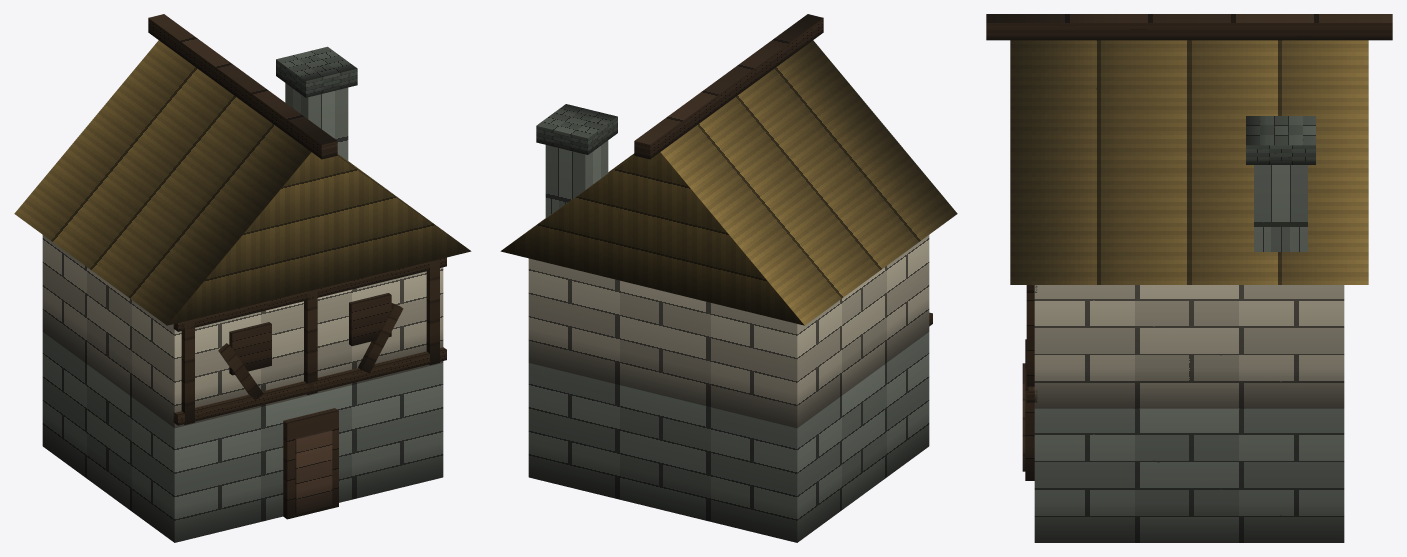
Rendered from house_small.gltf.
3 renders of one model, left to right at view 1: azimuth 30°, elevation 25°; view 2: azimuth 150°, elevation 25°; view 3: azimuth 270°, elevation 25°, orthographic. The views are drawn at different scales.
Visible parts, largest first — view 1: house_small; view 2: house_small; view 3: house_small.
Part boxes in pixels (bbox=[...]): house_small: bbox=[14, 14, 471, 542]; house_small: bbox=[500, 14, 957, 542]; house_small: bbox=[986, 14, 1392, 542].
Bounding box in the file's own units: 1.53 × 1.83 × 1.51.
Materials: 1 (1 with a texture image).
